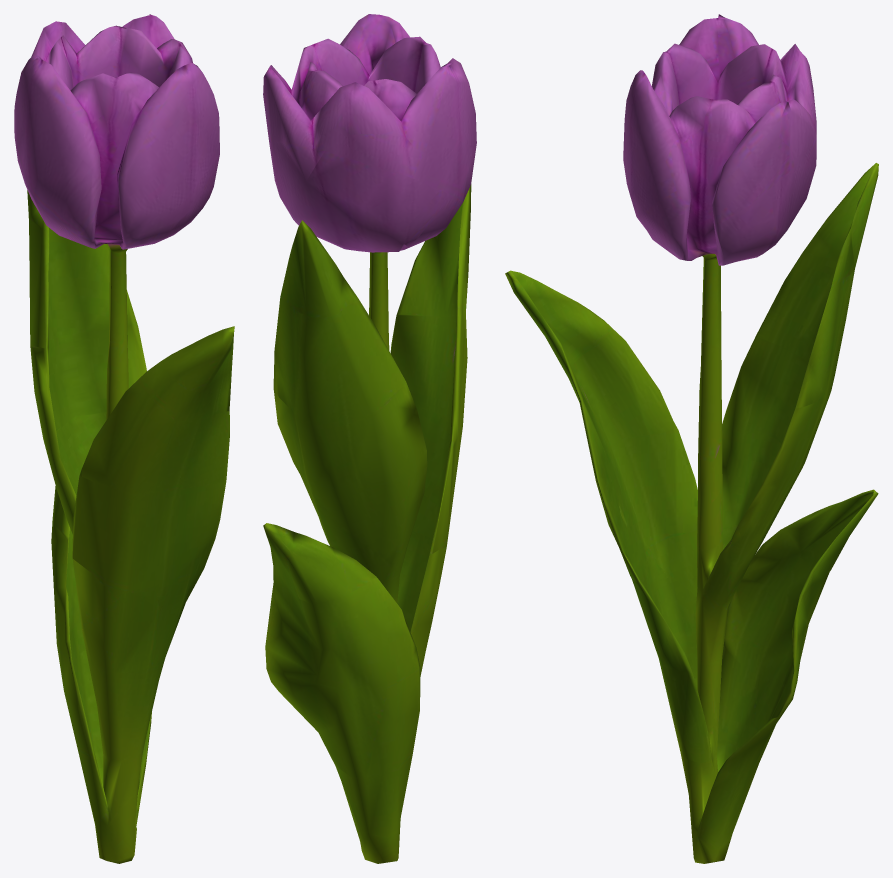
File: PurpleTulip.glb
3 views of the same model, side by side, from view 1: azimuth 30°, elevation 25°; view 2: azimuth 150°, elevation 25°; view 3: azimuth 270°, elevation 25° (orthographic).
Parts seen in each view (by area): view 1: tripo_node_479da673-bc3c-45dd-9a6c-f2d5e9a77171; view 2: tripo_node_479da673-bc3c-45dd-9a6c-f2d5e9a77171; view 3: tripo_node_479da673-bc3c-45dd-9a6c-f2d5e9a77171.
Boxes of the visible parts, left/top/right/bottom form: tripo_node_479da673-bc3c-45dd-9a6c-f2d5e9a77171: left=14, top=14, right=234, bottom=863; tripo_node_479da673-bc3c-45dd-9a6c-f2d5e9a77171: left=263, top=14, right=476, bottom=863; tripo_node_479da673-bc3c-45dd-9a6c-f2d5e9a77171: left=505, top=14, right=878, bottom=863.
Bounding box in the file's own units: 0.2302 × 0.9979 × 0.4184.
1 material, 1 textured.
